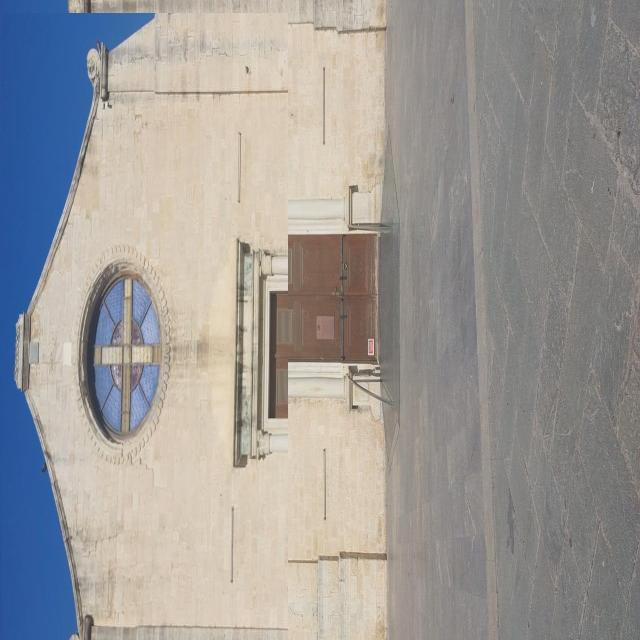Agia Aikaterini: (3, 14, 289, 640)
